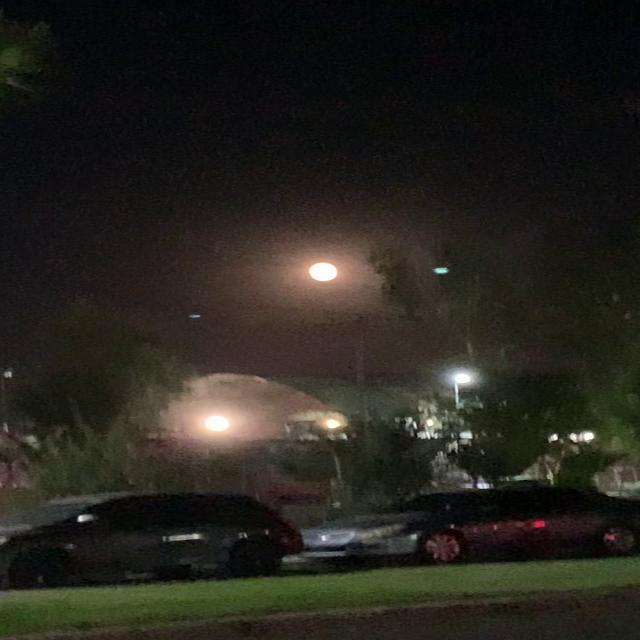moon: (300, 252, 353, 278)
